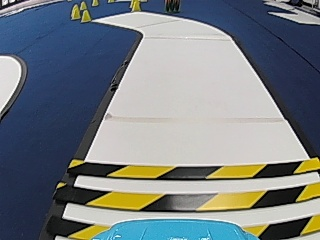bump: (47, 153, 316, 224)
